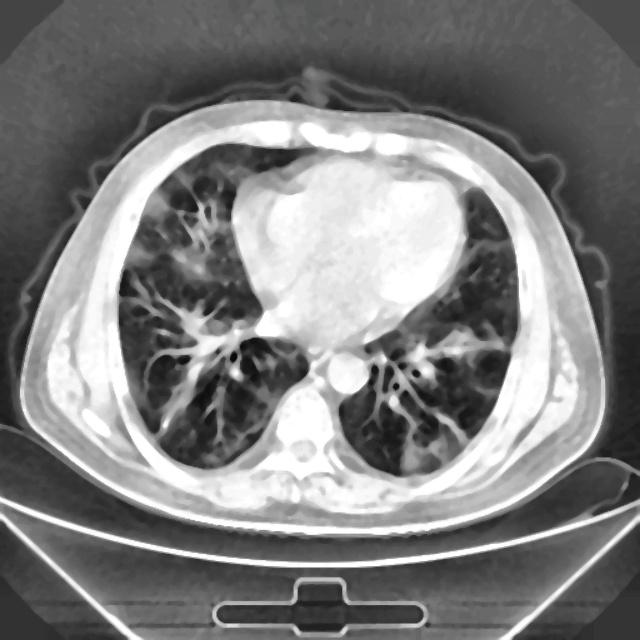covid: (18, 81, 611, 538)
